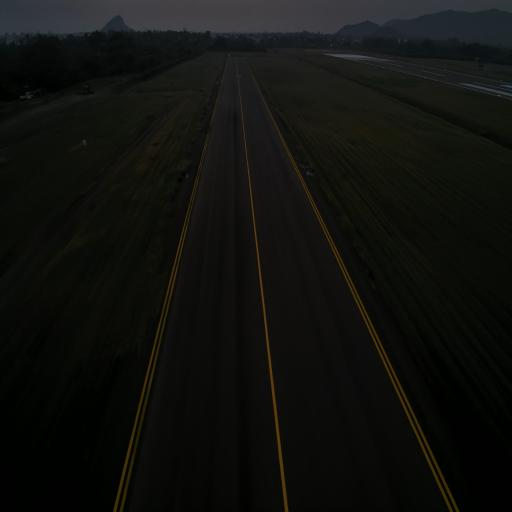on: (307, 167, 311, 176), (185, 170, 188, 177)
